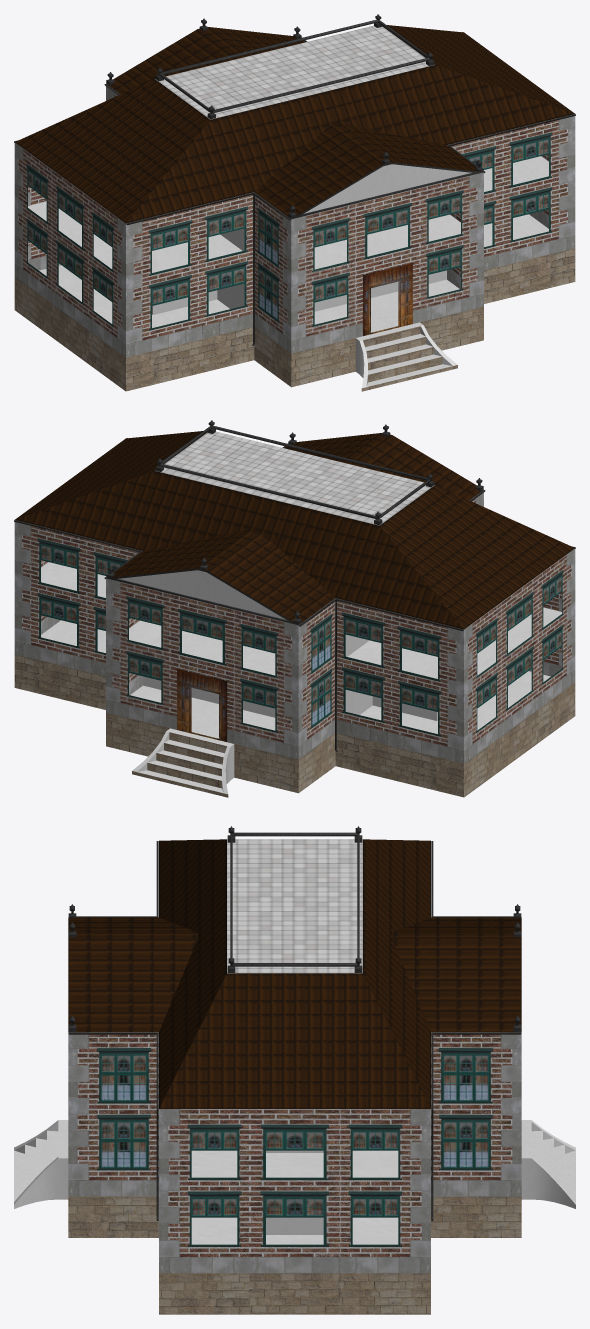
The model's file is HouseMansion_garrison.dae.
3 renders of one model, top to bottom at view 1: azimuth 30°, elevation 25°; view 2: azimuth 150°, elevation 25°; view 3: azimuth 270°, elevation 25°, orthographic. The views are drawn at different scales.
Visible parts, largest first — view 1: base, block1; view 2: base, block1; view 3: base, block3.
Boxes of the visible parts, x1,y1,x2,y2 form: base: [14, 14, 575, 391]; block1: [217, 228, 446, 311]; base: [14, 420, 575, 797]; block1: [143, 634, 372, 717]; base: [14, 826, 575, 1314]; block3: [266, 1150, 323, 1234].
Bounding box in the file's own units: 168 × 149 × 84.28.
